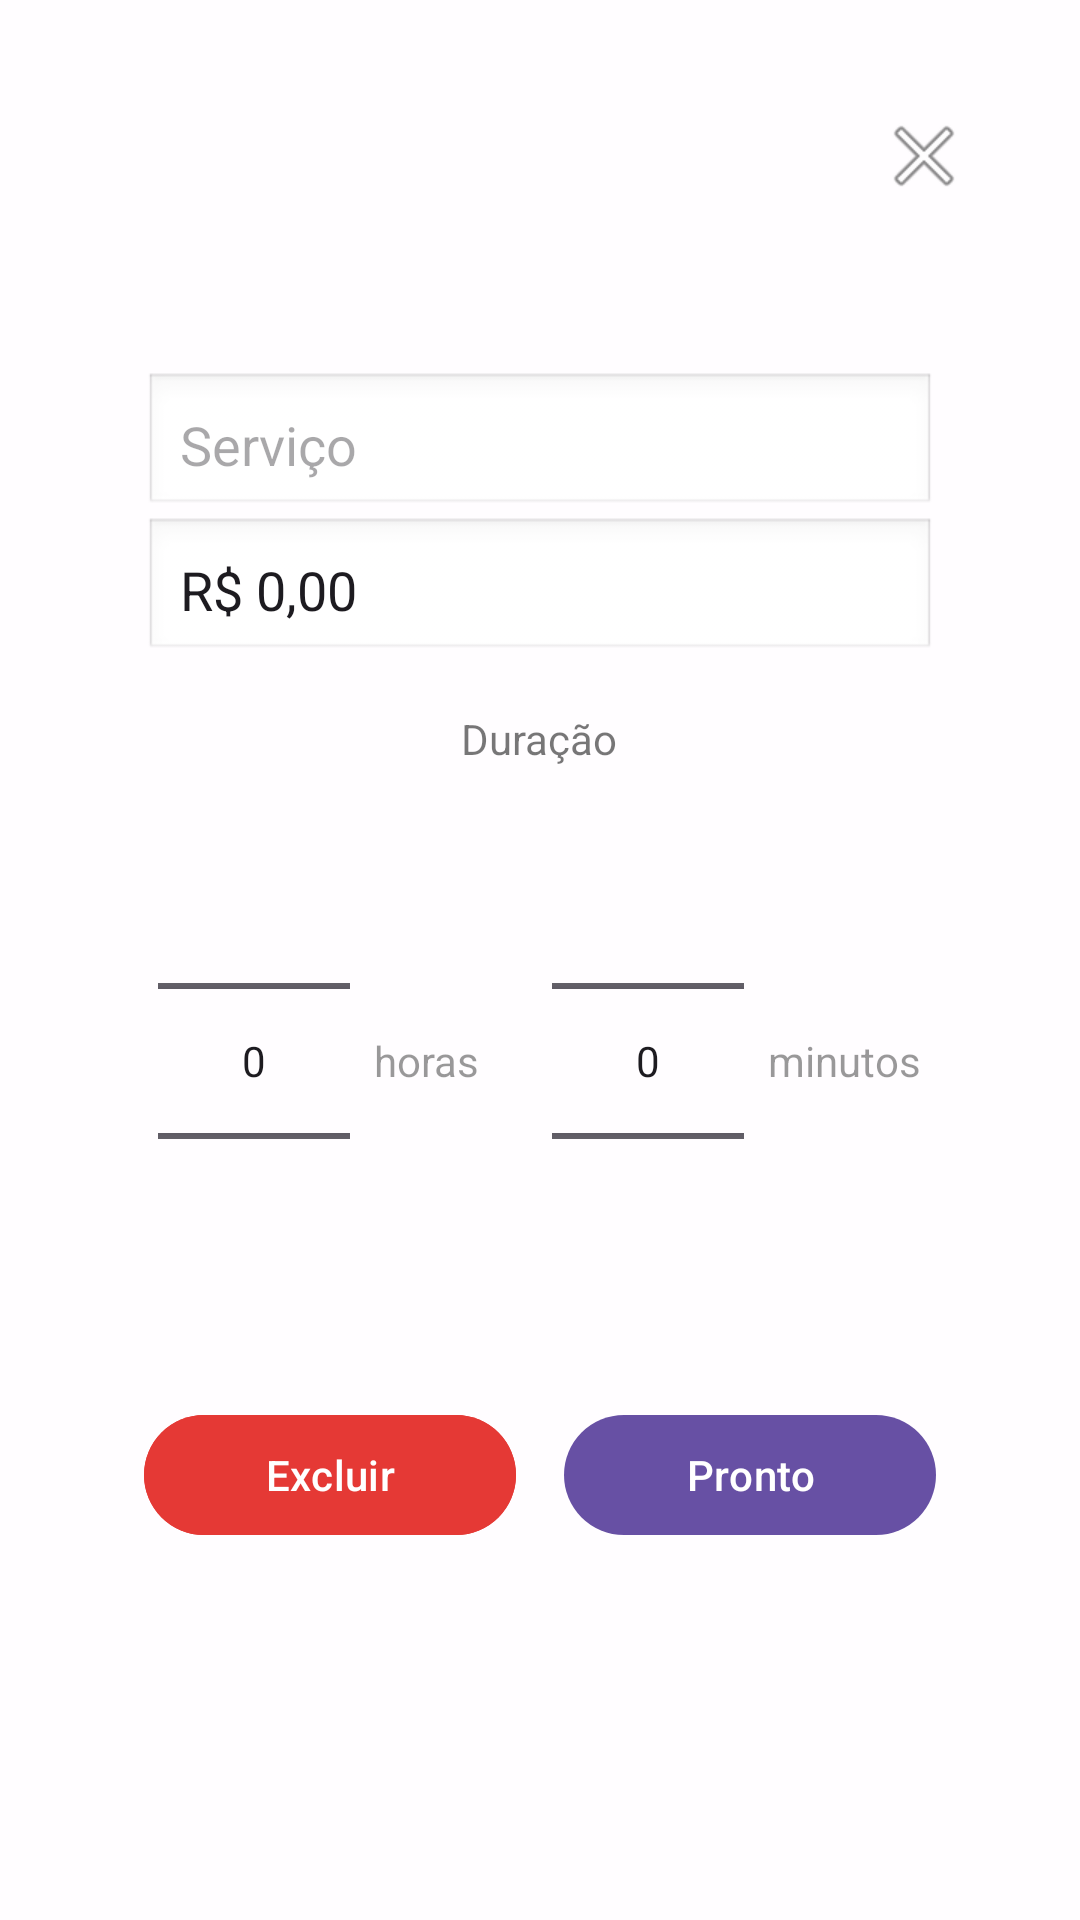

Icons on this 1080w x 1920h Android screen, each with the point to tap as [x,y]:
Fechar: [924,156]
